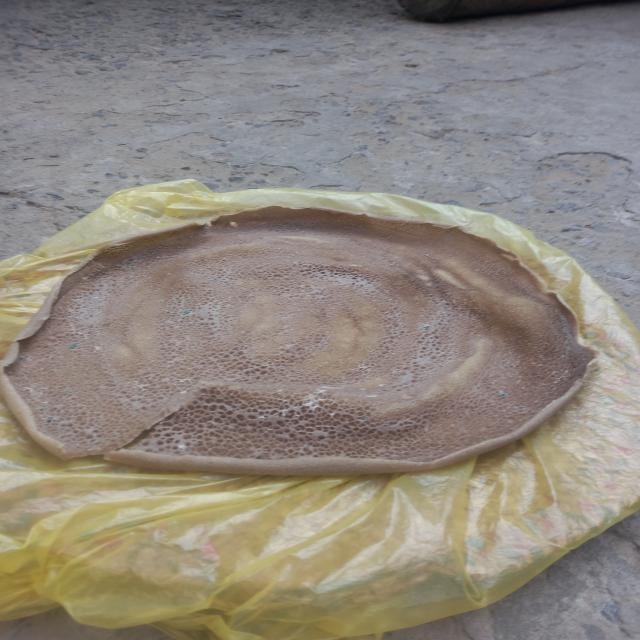injera_mold: (299, 389, 335, 416), (160, 377, 195, 394), (22, 385, 50, 404), (551, 368, 579, 384), (257, 409, 289, 422), (126, 380, 150, 391), (353, 363, 376, 374), (67, 342, 80, 350), (42, 417, 56, 424), (176, 443, 187, 451), (62, 390, 74, 397), (92, 346, 102, 353), (421, 326, 431, 332), (498, 392, 508, 398), (19, 370, 28, 376), (183, 310, 191, 316), (37, 407, 45, 412), (96, 328, 104, 333), (128, 266, 138, 270), (366, 394, 378, 397), (81, 276, 89, 280), (276, 390, 283, 394), (166, 310, 173, 314), (378, 384, 385, 387), (238, 234, 245, 237), (359, 388, 366, 390)
